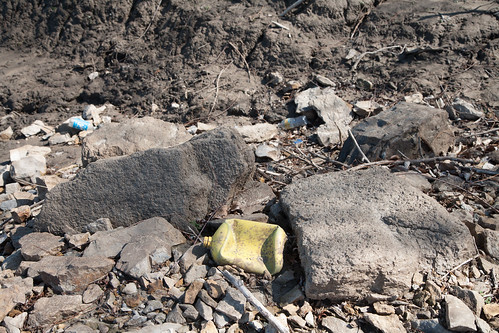rocks: (1, 62, 499, 333)
trash: (31, 90, 343, 285)
